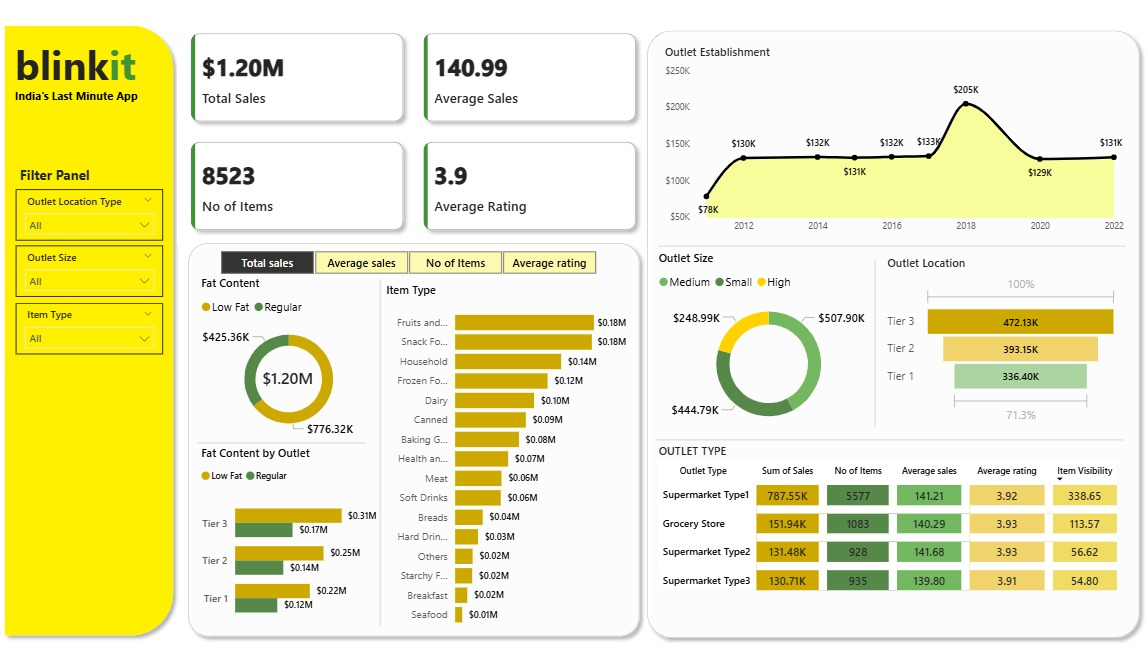

Layout of this report page (visuals, bound fields, positions):
{"tool":"powerbi","page":{"name":"Page 1","canvas":[1400,800],"ordinal":0},"visuals":[{"type":"shape","box":[0,24,220.6,750.4],"z":0},{"type":"textbox","box":[16.5,42,171.1,76.5],"z":1000},{"type":"textbox","box":[16.5,103.6,171.1,30],"z":2000},{"type":"cardVisual","fields":{"Data":["measure_table.Total sales","measure_table.Average sales","measure_table.No of Items","measure_table.Average rating"]},"box":[215.9,25.4,569.8,271.4],"z":3000},{"type":"shape","box":[220.6,285.7,560,490.5],"z":4000},{"type":"donutChart","title":"Fat Content","fields":{"Y":["measure_table.Total sales"],"Category":["BlinkIT Grocery Data.Item Fat Content"]},"box":[239.7,333.3,220.6,201.6],"z":5000},{"type":"slicer","fields":{"Values":["Metrics.Metrics"]},"box":[242.9,296.8,500,39.7],"z":6000},{"type":"cardVisual","fields":{"Data":["measure_table.Total sales"]},"box":[298.7,414.2,100.6,84],"z":7000},{"type":"clusteredBarChart","title":"Fat Content by Outlet","fields":{"Y":["measure_table.Total sales"],"Category":["BlinkIT Grocery Data.Outlet Location Type"],"Series":["BlinkIT Grocery Data.Item Fat Content"]},"box":[240.1,537.3,220.6,225.1],"z":8000},{"type":"shape","box":[240.1,520.8,202.6,27],"z":9000},{"type":"shape","box":[442.9,338.1,34.9,417.5],"z":10000},{"type":"barChart","title":"Item Type","fields":{"Y":["measure_table.Total sales"],"Category":["BlinkIT Grocery Data.Item Type"]},"box":[461.9,341.3,298.4,423.8],"z":11000},{"type":"shape","box":[771.4,30,609.4,747.4],"z":12000},{"type":"lineChart","title":"Outlet Establishment","fields":{"Category":["BlinkIT Grocery Data.Outlet Establishment Year"],"Y":["measure_table.Total sales"]},"box":[797,55.5,561.3,235.6],"z":13000},{"type":"shape","box":[794,291.2,561.3,13.5],"z":14000},{"type":"donutChart","title":"Outlet Size","fields":{"Y":["measure_table.Total sales"],"Category":["BlinkIT Grocery Data.Outlet Size"]},"box":[789.5,303.2,274.7,225.1],"z":15000},{"type":"shape","box":[1037.1,313.7,34.5,201.1],"z":16000},{"type":"funnel","title":"Outlet Location","fields":{"Y":["Sum(BlinkIT Grocery Data.Sales)"],"Category":["BlinkIT Grocery Data.Outlet Location Type"]},"box":[1064.1,309.2,286.7,207.1],"z":17000},{"type":"shape","box":[791,523.8,561.3,13.5],"z":18000},{"type":"pivotTable","title":"OUTLET TYPE","fields":{"Rows":["BlinkIT Grocery Data.Outlet Type"],"Values":["Sum(BlinkIT Grocery Data.Sales)","measure_table.No of Items","measure_table.Average sales","measure_table.Average rating","Sum(BlinkIT Grocery Data.Item Visibility)"]},"box":[789.5,534.3,568.8,216.1],"z":19000},{"type":"slicer","fields":{"Values":["BlinkIT Grocery Data.Outlet Location Type"]},"box":[22.5,229.6,177.1,61.5],"z":20000},{"type":"slicer","fields":{"Values":["BlinkIT Grocery Data.Outlet Size"]},"box":[22.5,297.2,177.1,61.5],"z":21000},{"type":"slicer","fields":{"Values":["BlinkIT Grocery Data.Item Type"]},"box":[22.5,366.2,177.1,61.5],"z":22000},{"type":"textbox","box":[22.5,196.6,142.6,33],"z":23000}]}

Visuals, with their boxes in screenshot pixels (x1, y1, x2, y2), scaled from the page's 1400x800 canvas onto the 1148x651 screenshot:
shape: left=0, top=20, right=181, bottom=630
textbox: left=14, top=34, right=154, bottom=96
textbox: left=14, top=84, right=154, bottom=109
cardVisual - measure_table.Total sales x measure_table.Average sales: left=177, top=21, right=644, bottom=242
shape: left=181, top=232, right=640, bottom=632
"Fat Content" donutChart: left=197, top=271, right=377, bottom=435
slicer - Metrics.Metrics: left=199, top=242, right=609, bottom=274
cardVisual - measure_table.Total sales: left=245, top=337, right=327, bottom=405
"Fat Content by Outlet" clusteredBarChart: left=197, top=437, right=378, bottom=620
shape: left=197, top=424, right=363, bottom=446
shape: left=363, top=275, right=392, bottom=615
"Item Type" barChart: left=379, top=278, right=623, bottom=623
shape: left=633, top=24, right=1132, bottom=633
"Outlet Establishment" lineChart: left=654, top=45, right=1114, bottom=237
shape: left=651, top=237, right=1111, bottom=248
"Outlet Size" donutChart: left=647, top=247, right=873, bottom=430
shape: left=850, top=255, right=879, bottom=419
"Outlet Location" funnel: left=873, top=252, right=1108, bottom=420
shape: left=649, top=426, right=1109, bottom=437
"OUTLET TYPE" pivotTable: left=647, top=435, right=1114, bottom=611
slicer - BlinkIT Grocery Data.Outlet Location Type: left=18, top=187, right=164, bottom=237
slicer - BlinkIT Grocery Data.Outlet Size: left=18, top=242, right=164, bottom=292
slicer - BlinkIT Grocery Data.Item Type: left=18, top=298, right=164, bottom=348
textbox: left=18, top=160, right=135, bottom=187
